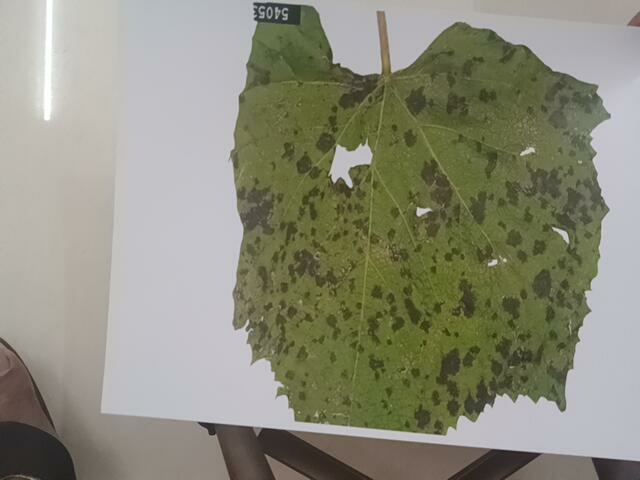Grape_Blight_Leaf: (228, 1, 607, 439)
